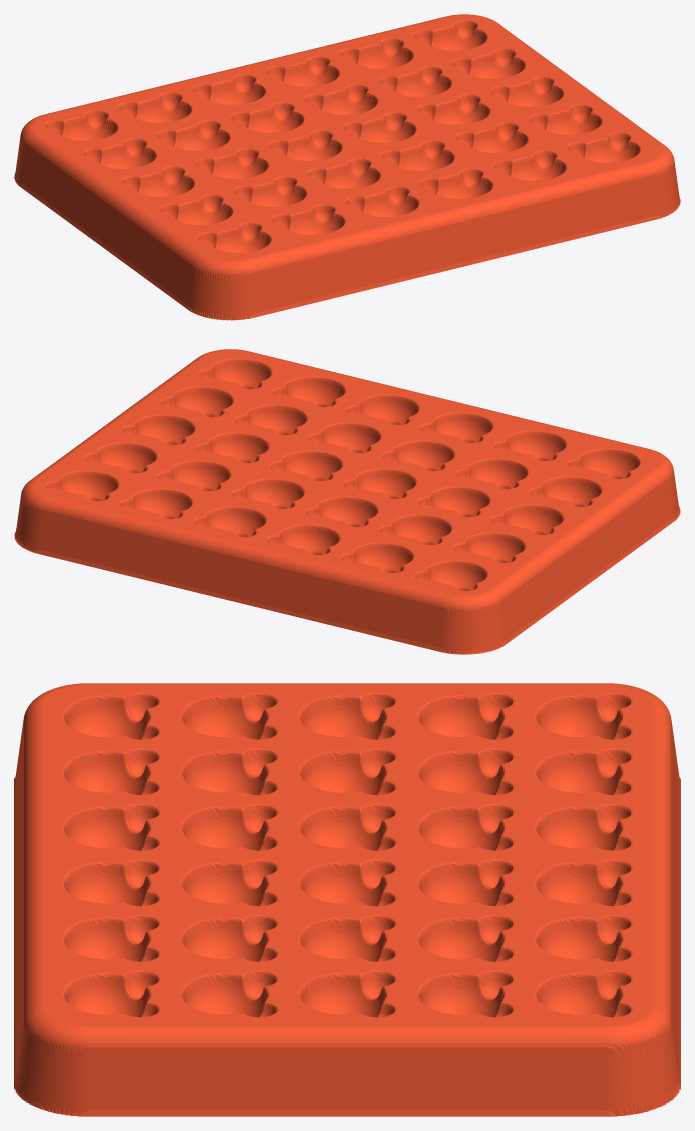
The model's file is mold.glb.
The picture shows the model from 3 angles, top to bottom: view 1: azimuth 30°, elevation 25°; view 2: azimuth 150°, elevation 25°; view 3: azimuth 270°, elevation 25°; orthographic projection. The views are drawn at different scales.
Parts seen in each view (by area): view 1: geometry_0; view 2: geometry_0; view 3: geometry_0.
Part boxes in pixels (bbox=[...]): geometry_0: bbox=[14, 14, 680, 320]; geometry_0: bbox=[14, 349, 680, 654]; geometry_0: bbox=[14, 683, 680, 1116].
Bounding box in the file's own units: 0.104 × 0.0105 × 0.0802.
